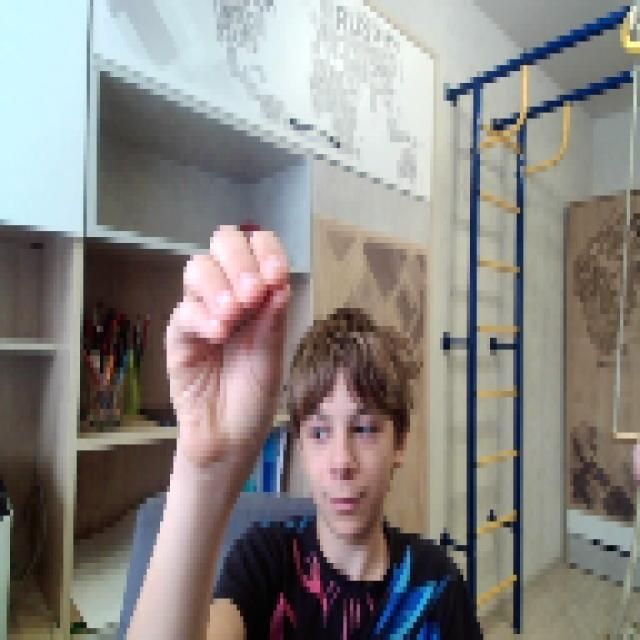left_click: (160, 213, 290, 444)
